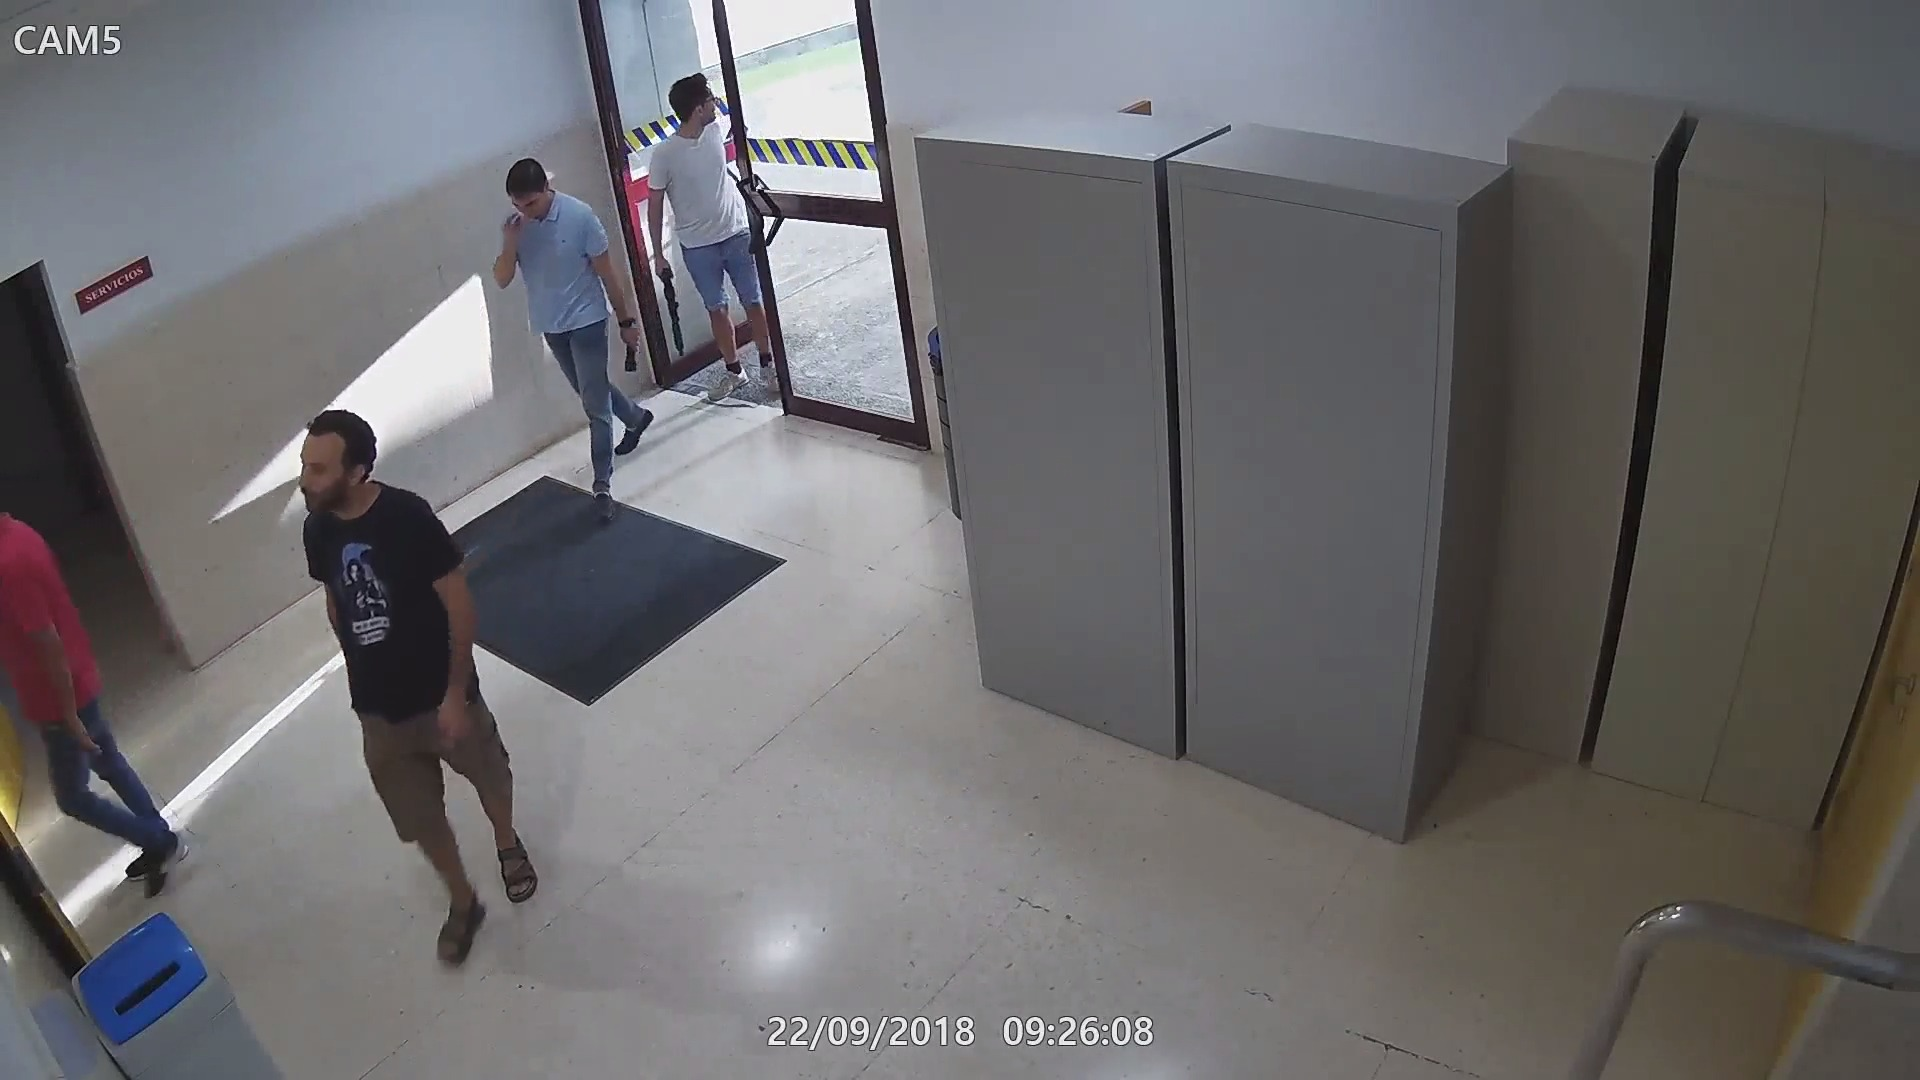Short_rifle: (649, 255, 687, 355)
